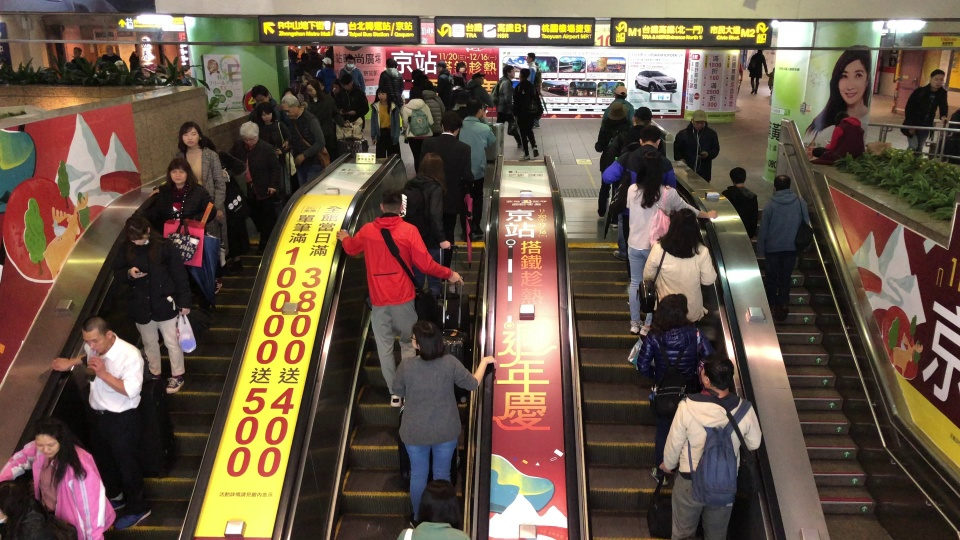person_head: (419, 478, 459, 526), (667, 210, 702, 260), (410, 321, 444, 360), (78, 317, 114, 353), (653, 294, 688, 331), (34, 418, 63, 459), (701, 357, 734, 393), (124, 213, 152, 247), (0, 480, 19, 522), (169, 159, 193, 189), (418, 153, 443, 178), (178, 121, 201, 148), (638, 164, 661, 190), (380, 189, 403, 214), (280, 94, 302, 118), (239, 121, 259, 146), (605, 102, 628, 121), (727, 167, 747, 187), (632, 107, 653, 126), (639, 129, 661, 147), (441, 116, 462, 134), (928, 69, 946, 90), (250, 85, 271, 102), (691, 109, 707, 130), (257, 103, 274, 122), (772, 174, 791, 191), (467, 100, 484, 118), (304, 81, 320, 97), (199, 136, 215, 152), (410, 68, 426, 84), (834, 112, 851, 127), (453, 90, 468, 106), (340, 73, 354, 90), (612, 86, 628, 100), (375, 88, 389, 103), (471, 71, 484, 85), (502, 64, 515, 78), (408, 88, 422, 100), (518, 68, 530, 82), (451, 75, 463, 88), (435, 61, 447, 72), (422, 81, 433, 93), (344, 56, 354, 68), (384, 58, 394, 70), (525, 51, 535, 63), (455, 63, 465, 74), (73, 47, 83, 57), (104, 44, 113, 55), (321, 58, 332, 67), (756, 47, 764, 54), (133, 43, 139, 52), (771, 66, 776, 73)
person_vbox: (337, 189, 464, 410), (53, 317, 152, 531), (393, 320, 496, 519), (659, 357, 763, 539), (624, 164, 718, 334), (638, 210, 717, 394), (113, 213, 193, 394), (642, 293, 717, 486), (0, 418, 117, 539), (146, 121, 226, 287), (606, 129, 679, 307), (154, 159, 218, 330), (604, 107, 666, 260), (395, 153, 455, 311), (757, 174, 813, 322), (198, 135, 249, 262), (228, 121, 278, 241), (435, 116, 473, 272), (457, 100, 496, 236), (0, 480, 78, 540), (396, 480, 473, 540), (592, 102, 630, 222), (279, 94, 330, 182), (900, 68, 950, 156), (599, 85, 634, 196), (256, 104, 298, 192), (672, 109, 720, 184), (488, 64, 524, 148), (809, 112, 865, 165), (721, 166, 759, 241), (402, 88, 434, 172), (511, 68, 540, 160), (369, 88, 403, 158), (304, 80, 336, 151), (339, 73, 369, 131), (525, 51, 547, 129), (378, 57, 406, 108), (421, 83, 447, 135), (249, 84, 282, 123), (746, 47, 769, 95), (339, 56, 366, 94), (466, 72, 493, 110), (315, 58, 336, 93), (409, 69, 436, 95), (98, 44, 122, 73), (435, 61, 453, 97), (70, 46, 90, 76), (450, 75, 469, 102), (452, 89, 469, 117), (127, 43, 142, 73), (767, 65, 779, 96), (452, 62, 467, 85)
